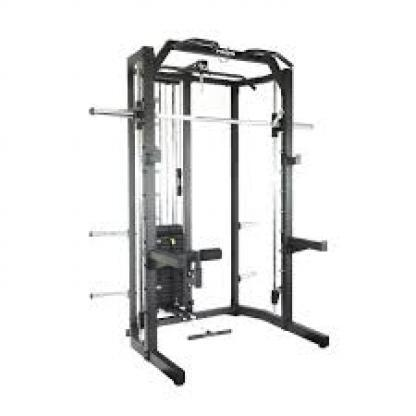smith machine: (89, 37, 330, 386)
